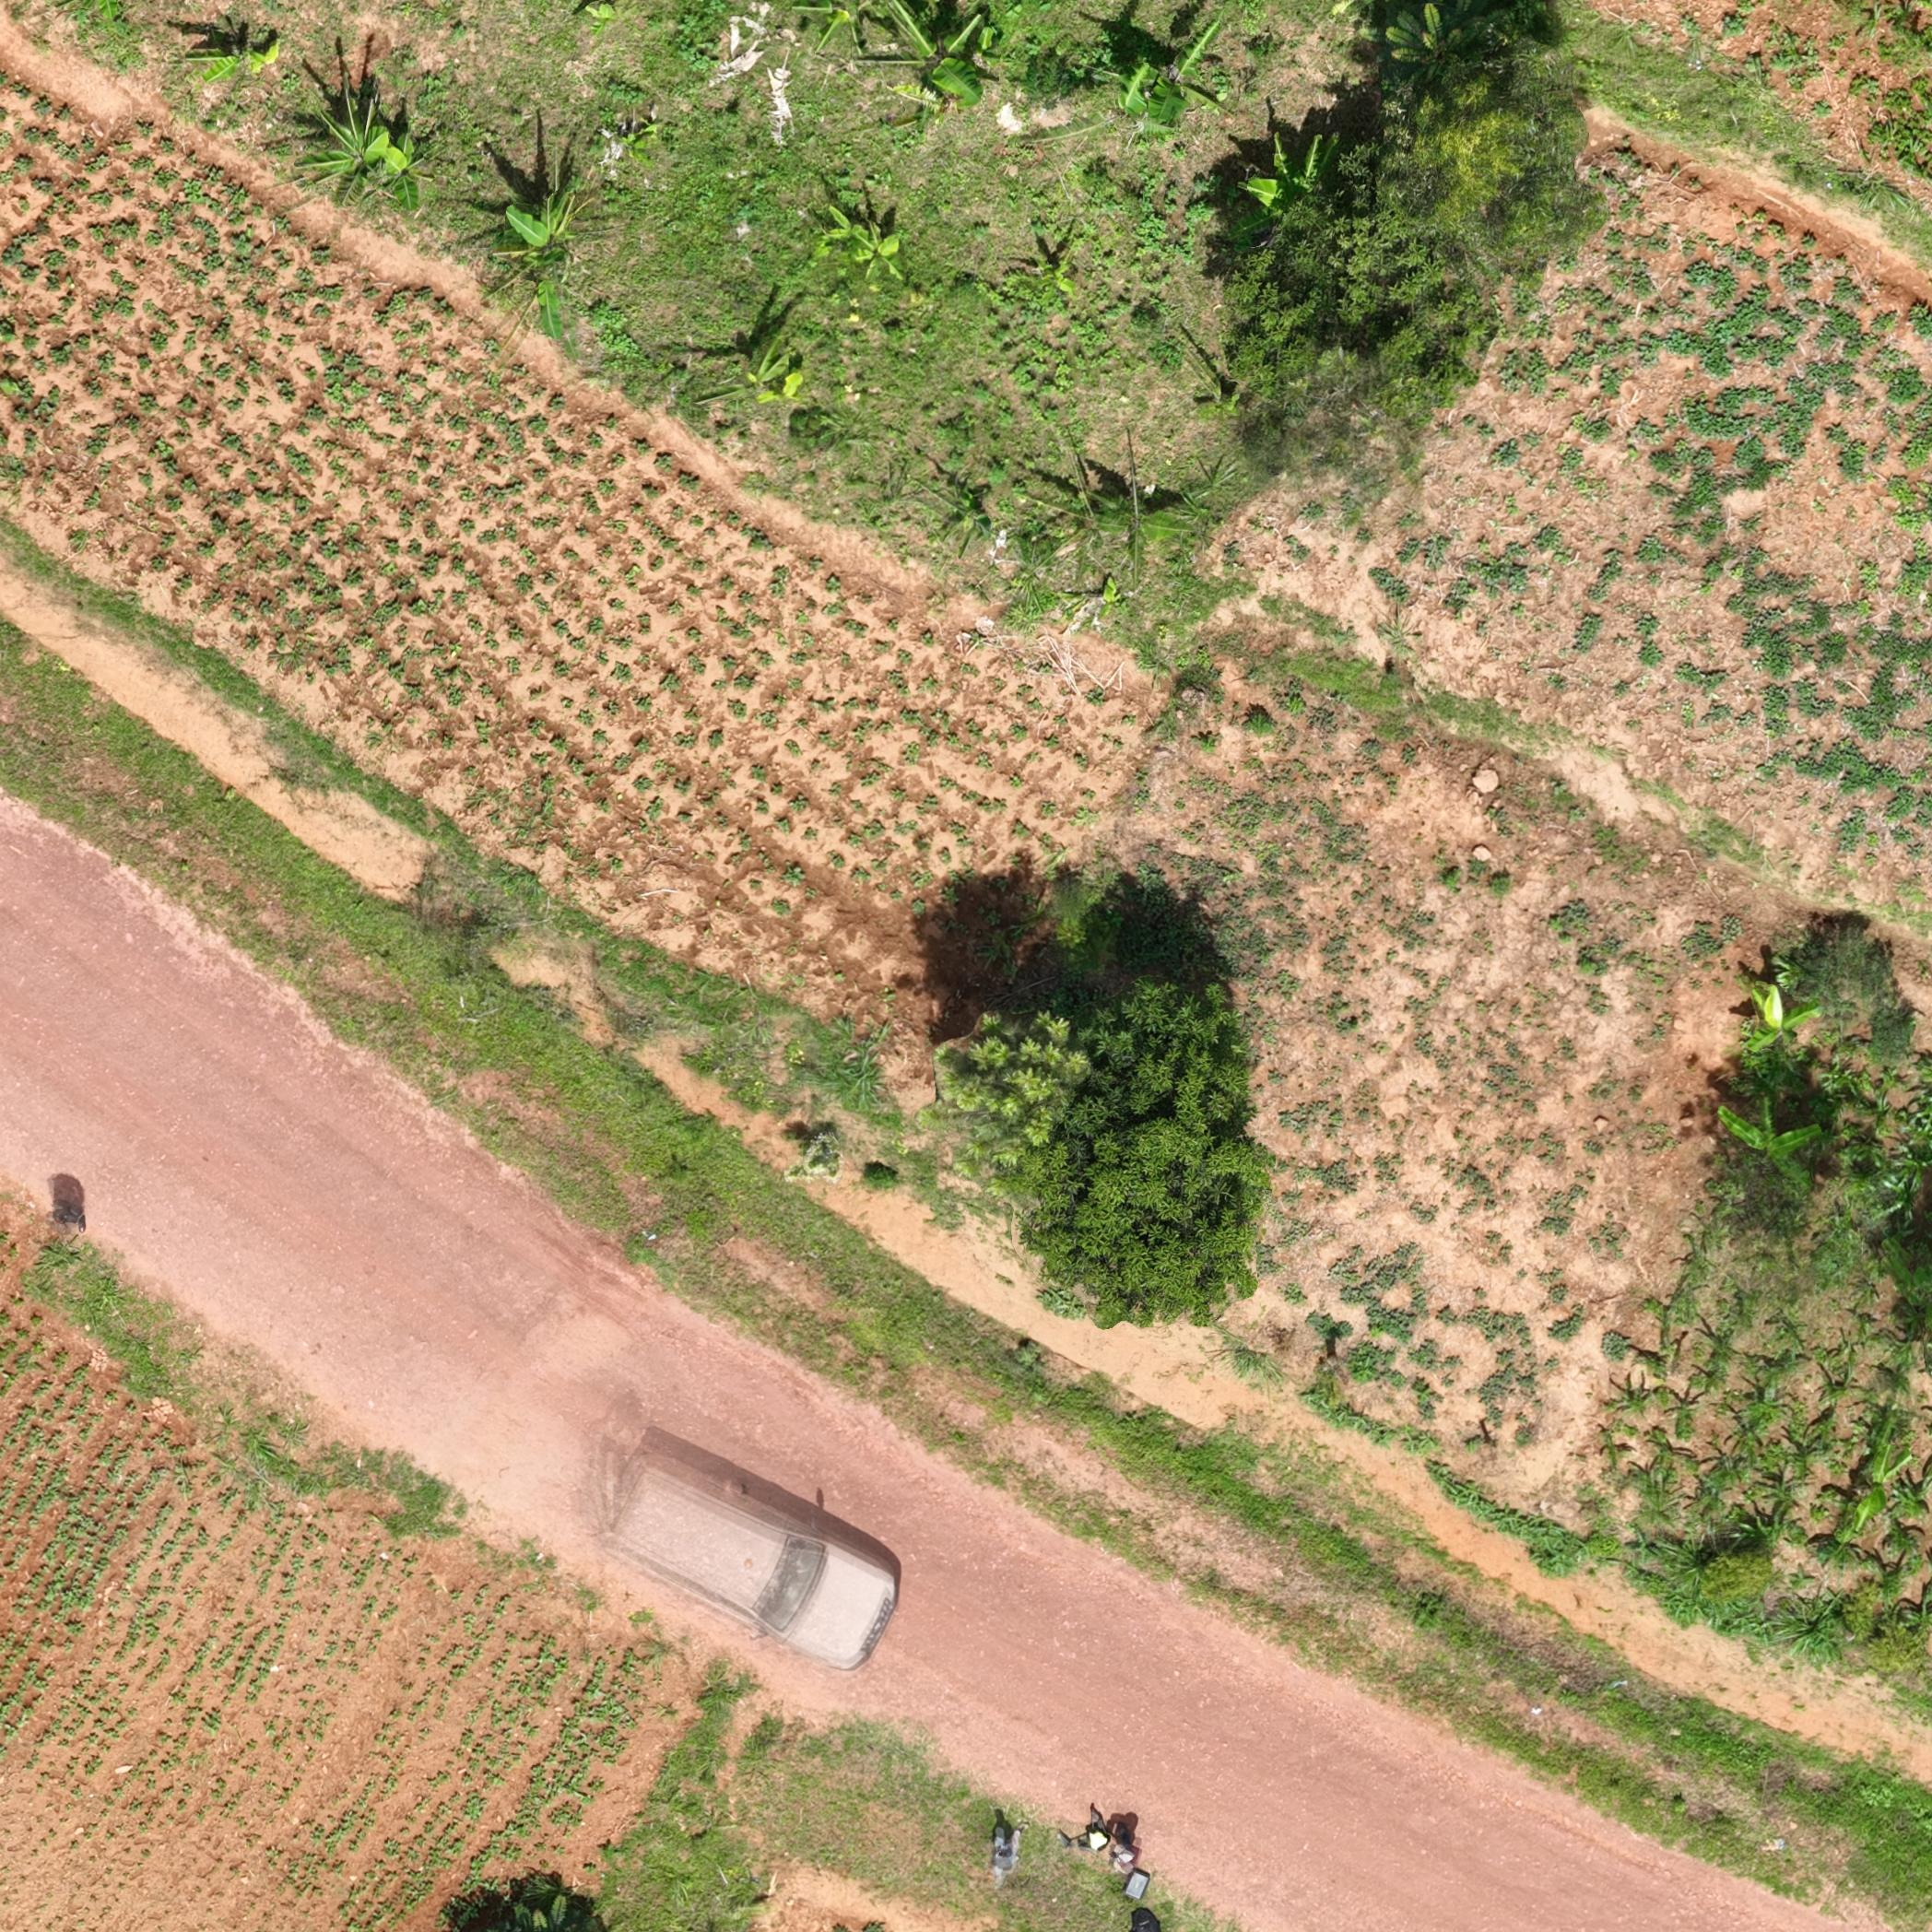Banana: (294, 62, 430, 209), (878, 7, 1012, 106), (1702, 1093, 1821, 1192), (1090, 32, 1224, 119), (805, 179, 904, 290), (488, 188, 557, 331), (908, 462, 1008, 550), (1734, 966, 1819, 1062), (1238, 122, 1316, 216), (718, 331, 803, 412), (184, 27, 288, 85), (1375, 4, 1449, 74), (1019, 226, 1097, 290), (1072, 566, 1143, 621), (793, 5, 870, 53)
